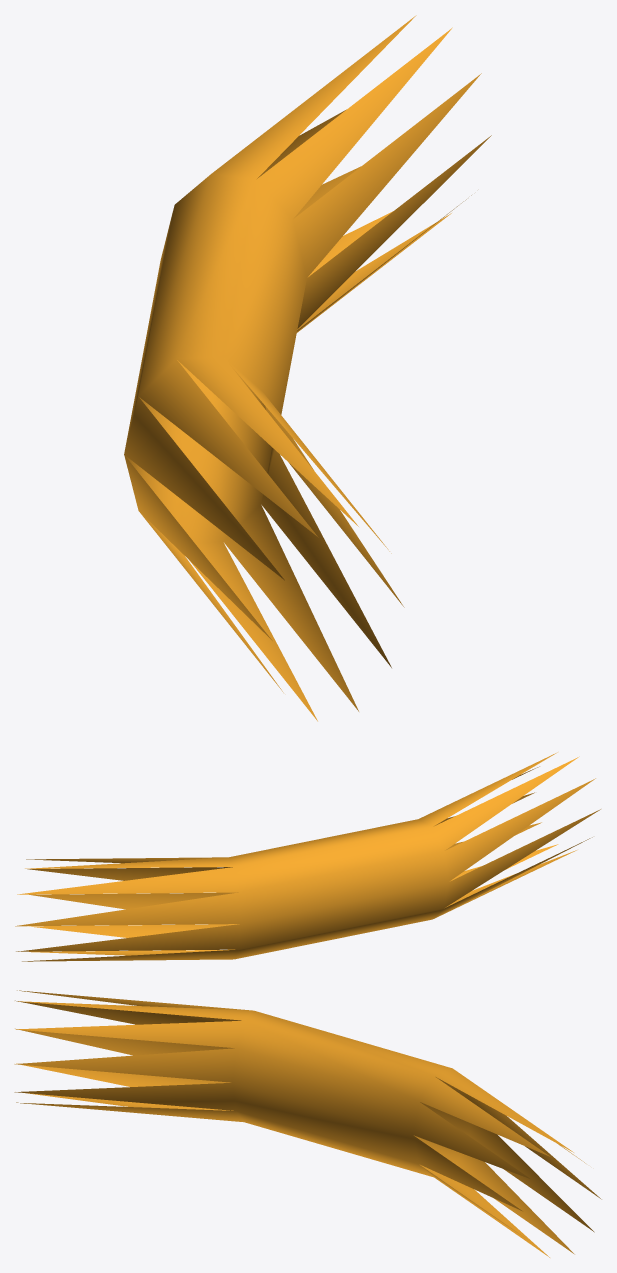
Rendered from TorusChunk_7_3.obj.
3 views of the same model, one above another, from view 1: azimuth 30°, elevation 25°; view 2: azimuth 150°, elevation 25°; view 3: azimuth 270°, elevation 25° (orthographic). The views are drawn at different scales.
Visible parts, largest first — view 1: TorusChunk_7_3; view 2: TorusChunk_7_3; view 3: TorusChunk_7_3.
Boxes of the visible parts, x1=… form: TorusChunk_7_3: x1=124, y1=15, x2=491, y2=721; TorusChunk_7_3: x1=15, y1=752, x2=600, y2=961; TorusChunk_7_3: x1=14, y1=990, x2=601, y2=1257.
Size of the model in its own units: 1.05 by 0.27 by 1.42.
